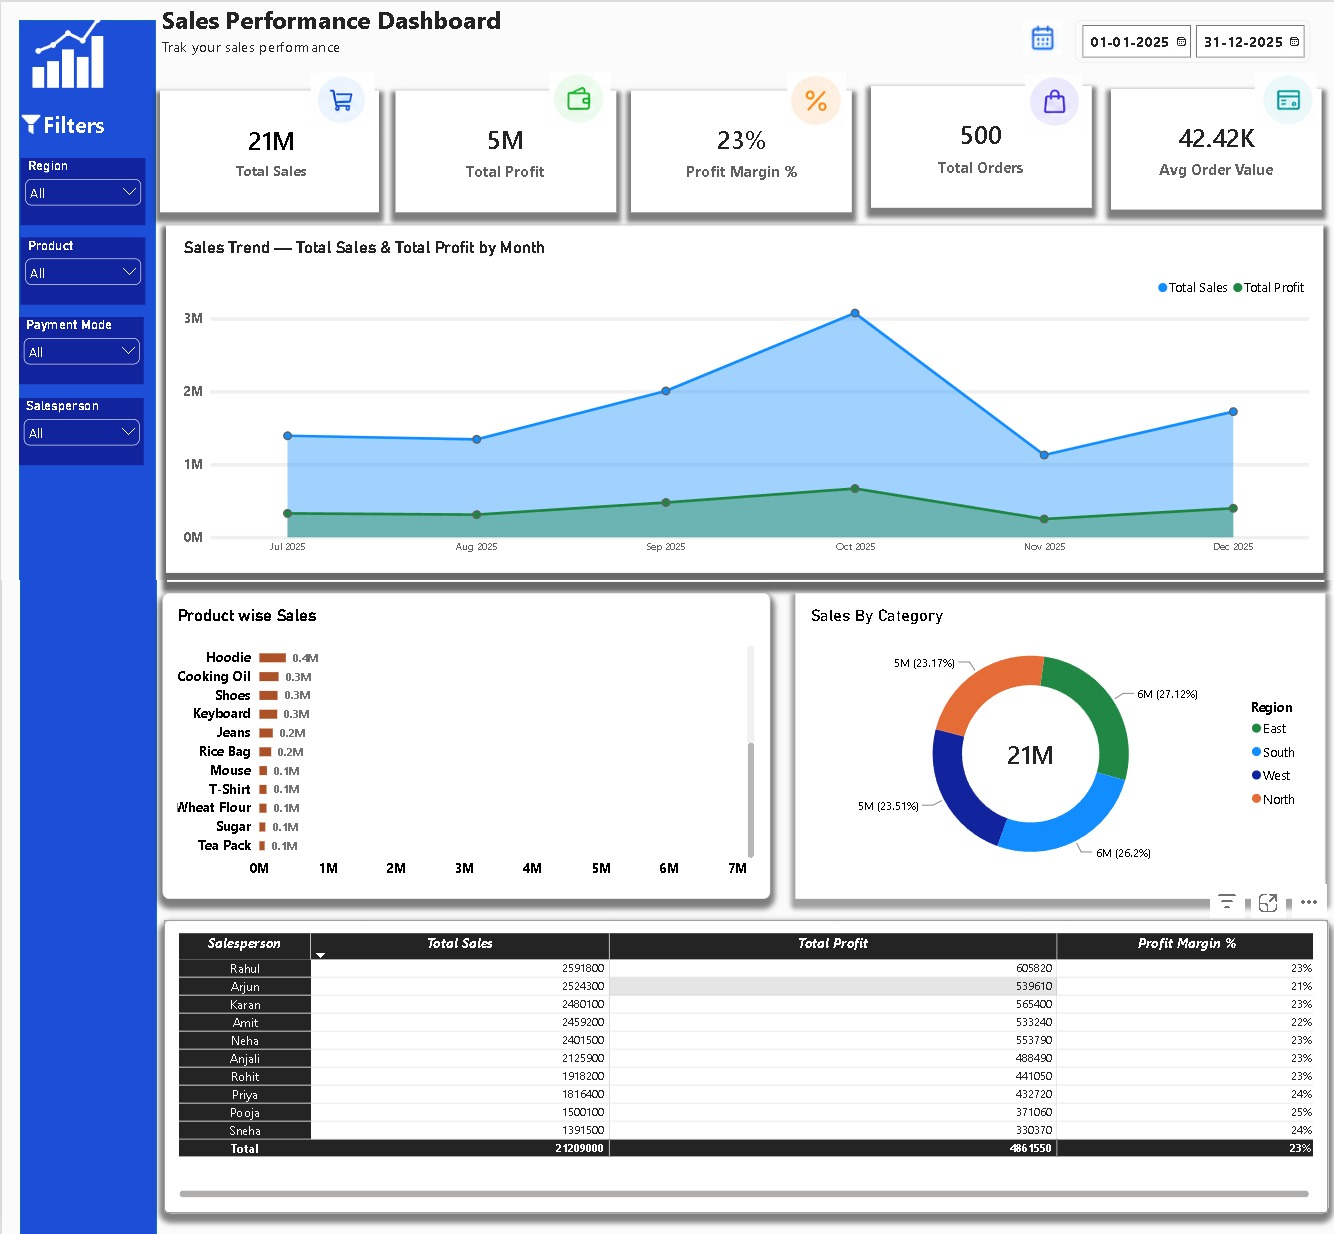

This screenshot's page, from the dashboard's own definition file:
{"tool":"powerbi","page":{"name":"Dashboard","canvas":[1483,1359],"ordinal":0},"visuals":[{"type":"textbox","box":[179,1.5,741.7,63.3],"z":0},{"type":"shape","box":[20,19.5,152,1470],"z":1000},{"type":"card","fields":{"Values":["_measure.Total Sales"]},"box":[176,98,243.3,135.6],"z":2000},{"type":"card","fields":{"Values":["_measure.Total Profit"]},"box":[438,98,245,135],"z":3000},{"type":"card","fields":{"Values":["_measure.Profit Margin %"]},"box":[700,98,245,135],"z":4000},{"type":"card","fields":{"Values":["_measure.Total Orders"]},"box":[966,94,245,135],"z":5000},{"type":"card","fields":{"Values":["_measure.Avg Order Value"]},"box":[1234,96,234,134],"z":6000},{"type":"image","box":[337.8,77.7,82.5,61.2],"z":7000},{"type":"image","box":[601.5,79,82.5,61.2],"z":8000},{"type":"image","box":[865.2,77.7,82.5,61.2],"z":9000},{"type":"image","box":[1129,80.2,82.5,61.2],"z":10000},{"type":"image","box":[1386.5,77.7,82.5,61.2],"z":11000},{"type":"lineChart","title":"Sales Trend — Total Sales & Total Profit by Month","fields":{"Category":["Date.MonthYear"],"Y":["_measure.Total Sales","_measure.Total Profit"]},"box":[184,248,1286,386],"z":12000},{"type":"donutChart","title":"Sales By Category","fields":{"Category":["Sales_Dashboard.Region"],"Y":["Sum(Sales_Dashboard.Total Sales)"]},"box":[882.3,646.5,588.3,340],"z":13000},{"type":"clusteredBarChart","title":"Product wise Sales","fields":{"Category":["Sales_Dashboard.Product"],"Y":["_measure.Total Sales"]},"box":[179,646.5,675,340],"z":14000},{"type":"pivotTable","fields":{"Rows":["Sales_Dashboard.Salesperson"],"Values":["_measure.Total Sales","_measure.Total Profit","_measure.Profit Margin %"]},"box":[180,1009.5,1294,326],"z":15000},{"type":"slicer","fields":{"Values":["Sales_Dashboard.Region"]},"box":[22,173.5,138.9,74.4],"z":16000},{"type":"slicer","fields":{"Values":["Sales_Dashboard.Product"]},"box":[22,261.5,138.9,74.4],"z":17000},{"type":"slicer","fields":{"Values":["Sales_Dashboard.Payment Mode"]},"box":[20,349.5,138.9,74.4],"z":18000},{"type":"slicer","fields":{"Values":["Sales_Dashboard.Salesperson"]},"box":[20,439.5,138.9,74.4],"z":19000},{"type":"textbox","box":[4,120,155.7,42.9],"z":20000},{"type":"image","box":[21.1,108.6,23,55],"z":21000},{"type":"image","box":[20.7,13.1,108.3,81.7],"z":22000},{"type":"slicer","fields":{"Values":["Date.Date"]},"box":[1193.1,19.7,261,47],"z":23000},{"type":"image","box":[1129.5,19.7,55.6,37.8],"z":24000}]}

Visuals, with their boxes in screenshot pixels (x1, y1, x2, y2):
textbox: (x1=161, y1=0, x2=843, y2=49)
shape: (x1=15, y1=8, x2=155, y2=1233)
card - _measure.Total Sales: (x1=158, y1=80, x2=382, y2=204)
card - _measure.Total Profit: (x1=399, y1=80, x2=625, y2=204)
card - _measure.Profit Margin %: (x1=640, y1=80, x2=866, y2=204)
card - _measure.Total Orders: (x1=885, y1=76, x2=1110, y2=200)
card - _measure.Avg Order Value: (x1=1131, y1=78, x2=1333, y2=201)
image: (x1=307, y1=61, x2=383, y2=117)
image: (x1=550, y1=62, x2=626, y2=119)
image: (x1=792, y1=61, x2=868, y2=117)
image: (x1=1035, y1=63, x2=1111, y2=120)
image: (x1=1272, y1=61, x2=1333, y2=117)
"Sales Trend — Total Sales & Total Profit by Month" lineChart: (x1=166, y1=218, x2=1333, y2=573)
"Sales By Category" donutChart: (x1=808, y1=584, x2=1333, y2=897)
"Product wise Sales" clusteredBarChart: (x1=161, y1=584, x2=782, y2=897)
pivotTable - Sales_Dashboard.Salesperson x _measure.Total Sales: (x1=162, y1=918, x2=1333, y2=1218)
slicer - Sales_Dashboard.Region: (x1=17, y1=149, x2=145, y2=218)
slicer - Sales_Dashboard.Product: (x1=17, y1=230, x2=145, y2=299)
slicer - Sales_Dashboard.Payment Mode: (x1=15, y1=311, x2=143, y2=379)
slicer - Sales_Dashboard.Salesperson: (x1=15, y1=394, x2=143, y2=462)
textbox: (x1=0, y1=100, x2=143, y2=139)
image: (x1=16, y1=89, x2=37, y2=140)
image: (x1=16, y1=2, x2=115, y2=77)
slicer - Date.Date: (x1=1094, y1=8, x2=1333, y2=51)
image: (x1=1035, y1=8, x2=1086, y2=42)
